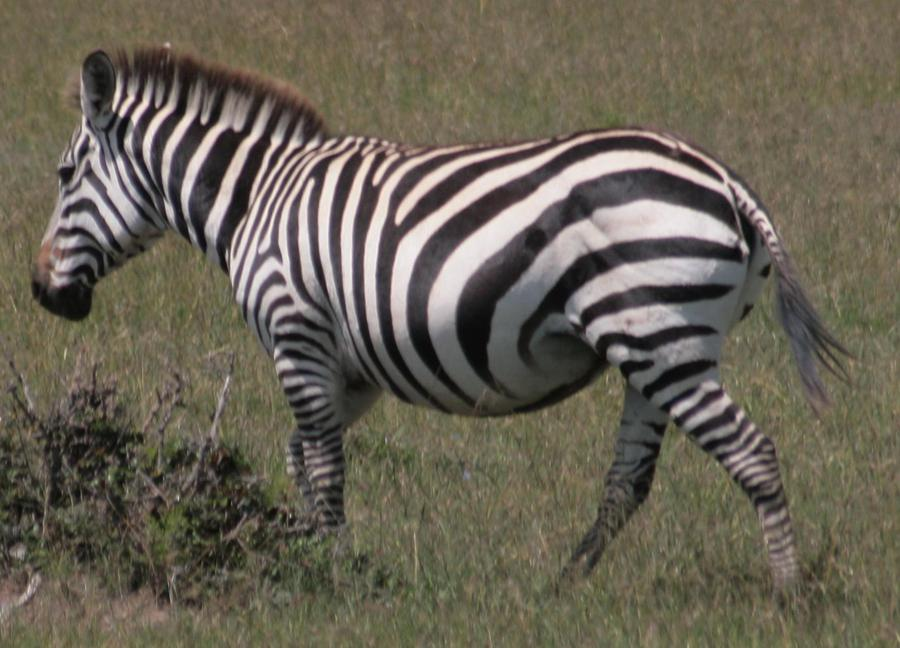zebra_plains: (203, 107, 755, 420)
